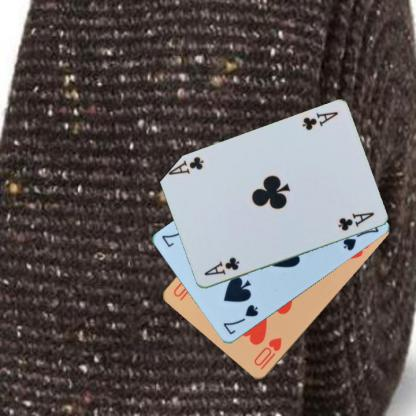10h: (251, 335, 283, 368)
7s: (220, 302, 260, 336)
Ac: (299, 109, 340, 132), (201, 255, 240, 277)
